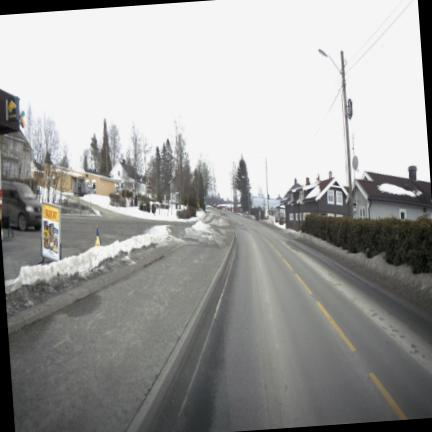Road: (151, 216, 431, 431)
